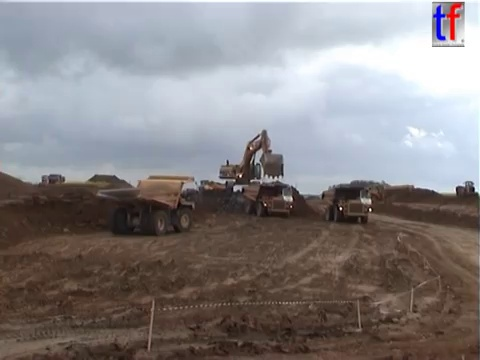excavator: (217, 127, 287, 197)
truck: (94, 174, 199, 237), (239, 181, 295, 218), (320, 186, 371, 224), (362, 181, 416, 204), (194, 177, 238, 197), (46, 173, 66, 188)
wheel loader: (449, 180, 480, 203)
